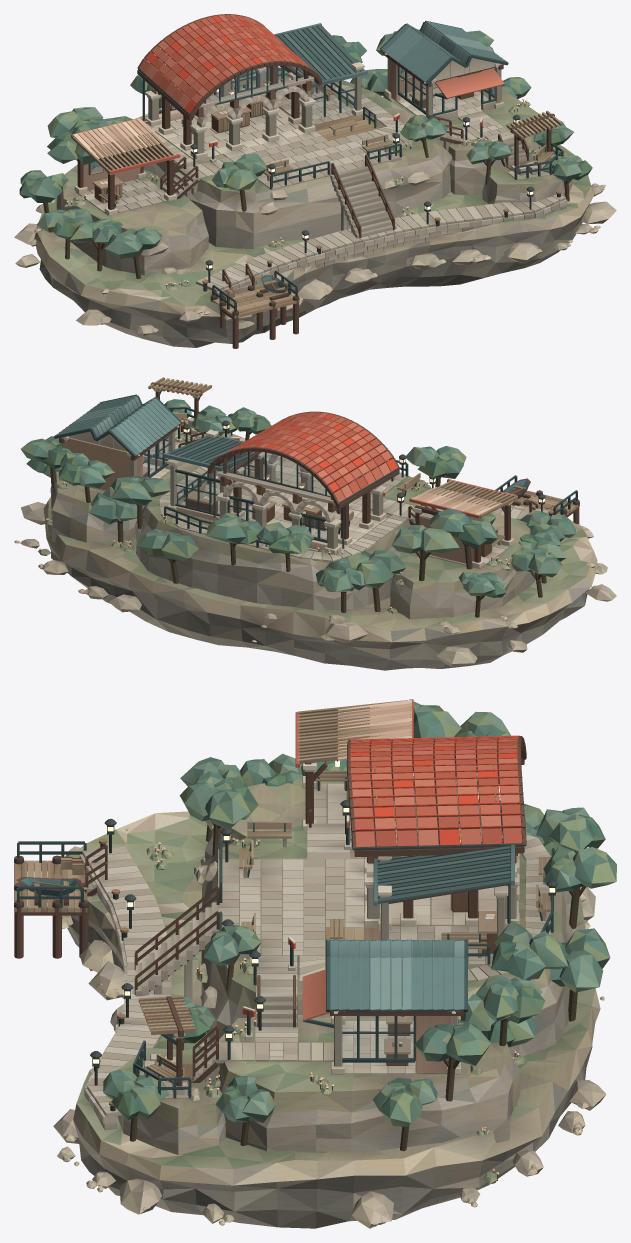
File: gofurry.glb
The picture shows the model from 3 angles, top to bottom: view 1: azimuth 30°, elevation 25°; view 2: azimuth 150°, elevation 25°; view 3: azimuth 270°, elevation 25°; orthographic projection. The views are drawn at different scales.
Visible parts, largest first — view 1: GoFurry — The Discovery Harbor; view 2: GoFurry — The Discovery Harbor; view 3: GoFurry — The Discovery Harbor.
Part boxes in pixels (x1=…): GoFurry — The Discovery Harbor: x1=14, y1=14, x2=616, y2=348; GoFurry — The Discovery Harbor: x1=14, y1=377, x2=616, y2=670; GoFurry — The Discovery Harbor: x1=14, y1=699, x2=616, y2=1228.
Bounding box in the file's own units: 28.29 × 10.26 × 18.23.
3 materials, 1 textured.
